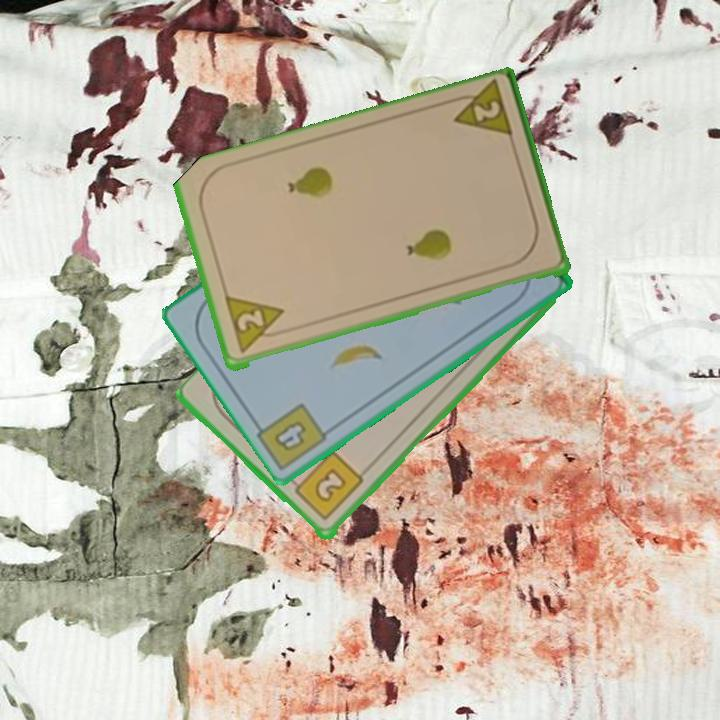2b: (286, 448, 367, 524)
2p: (444, 80, 516, 144), (221, 294, 291, 357)
4b: (270, 417, 309, 455)
